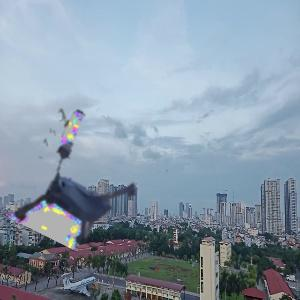drone: (29, 119, 165, 255)
